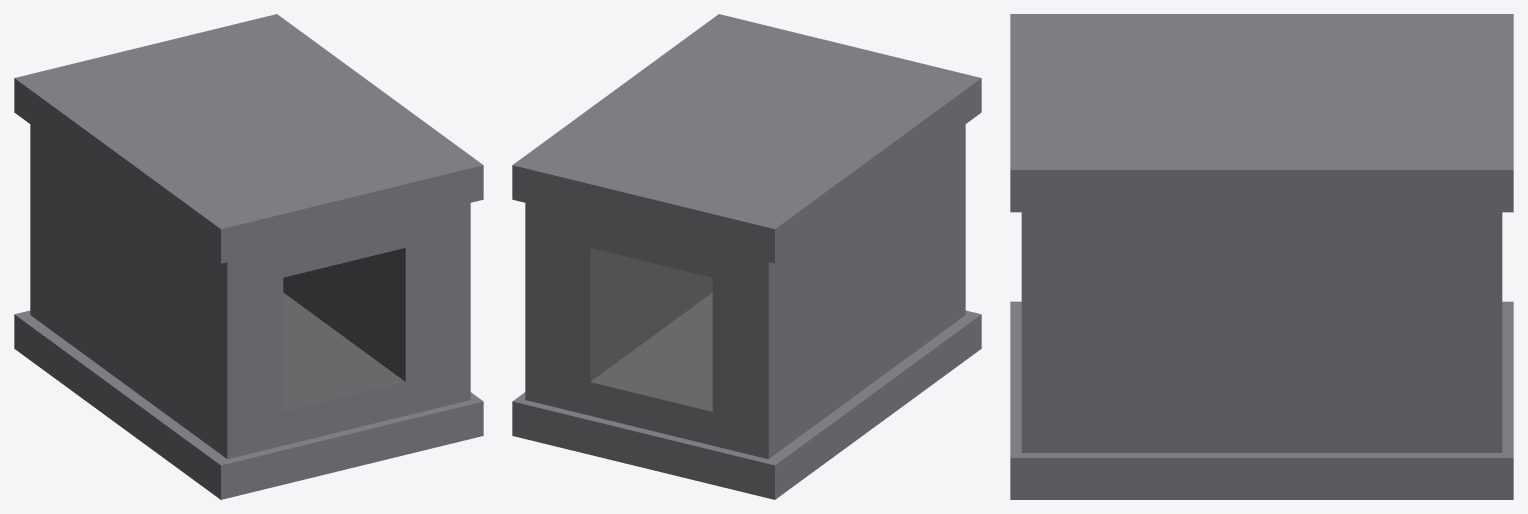
The model's file is ConcreteBlock_2.fbx.
3 renders of one model, left to right at view 1: azimuth 30°, elevation 25°; view 2: azimuth 150°, elevation 25°; view 3: azimuth 270°, elevation 25°, orthographic. The views are drawn at different scales.
Parts seen in each view (by area): view 1: ConcreteBlock_2; view 2: ConcreteBlock_2; view 3: ConcreteBlock_2.
Boxes of the visible parts, x1,y1,x2,y2 form: ConcreteBlock_2: (14,14,483,499); ConcreteBlock_2: (512,14,981,499); ConcreteBlock_2: (1010,14,1513,499).
Bounding box in the file's own units: 20.04 × 19.74 × 27.3.
